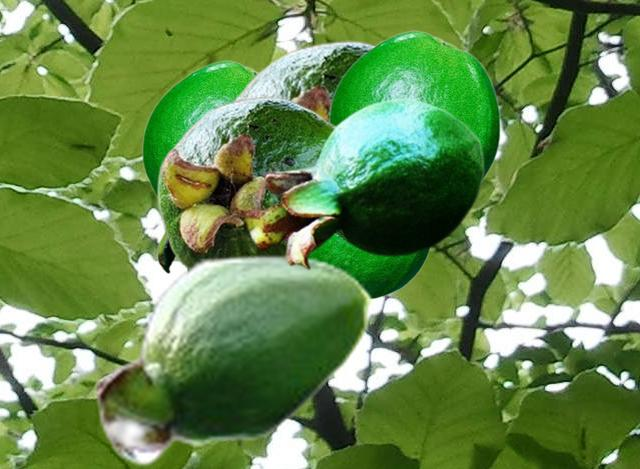guava: (94, 253, 372, 466), (243, 96, 484, 269), (156, 96, 336, 268), (328, 30, 500, 178), (141, 60, 257, 274), (229, 40, 377, 119), (311, 235, 430, 299)
